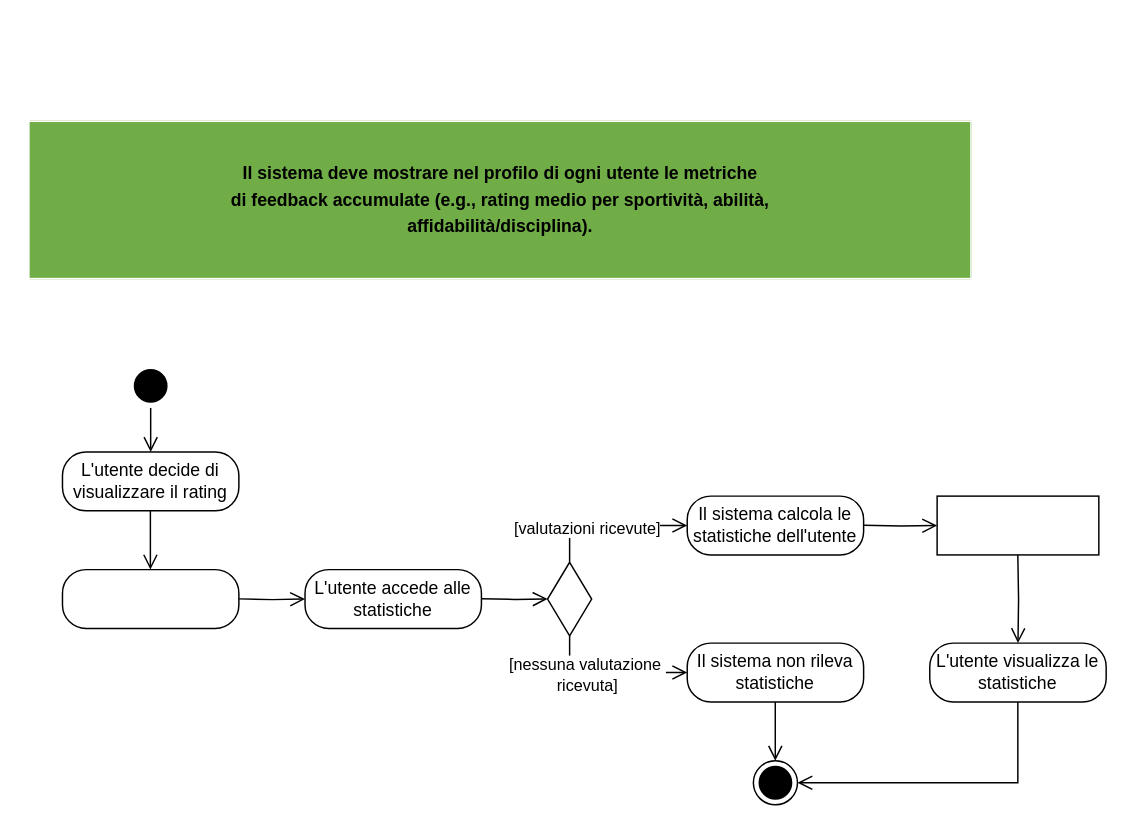
The diagram is 1132 pixels wide and 831 high, and some of its shapes have lost their labels. The shapes that lost their labels are listed below. From the top down, each one's centre as x and y in pixels, then its label:
pixel 1017 525: Rating
pixel 150 598: L'utente accede all'area utente
